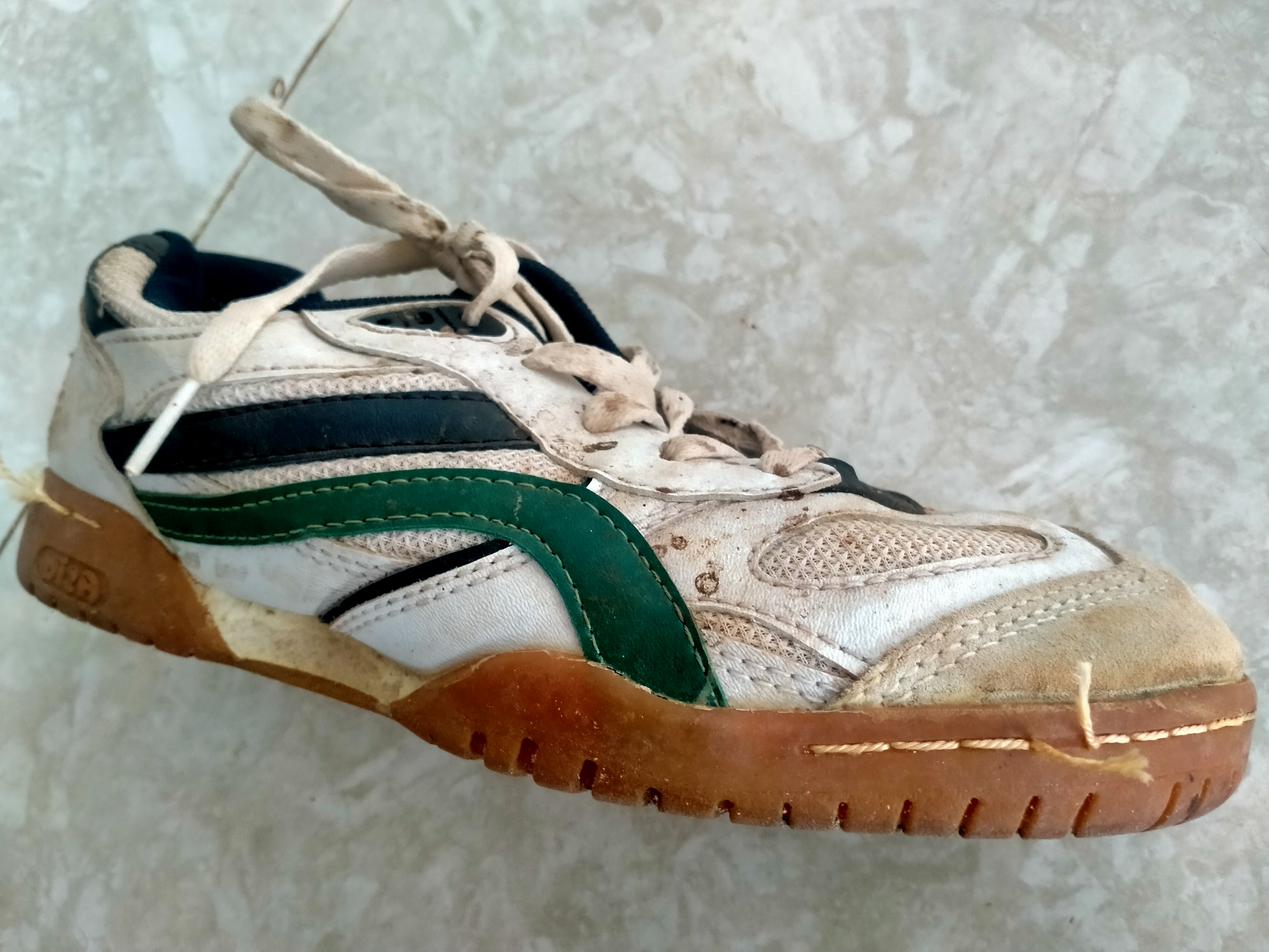broken: (1007, 711, 1116, 764)
